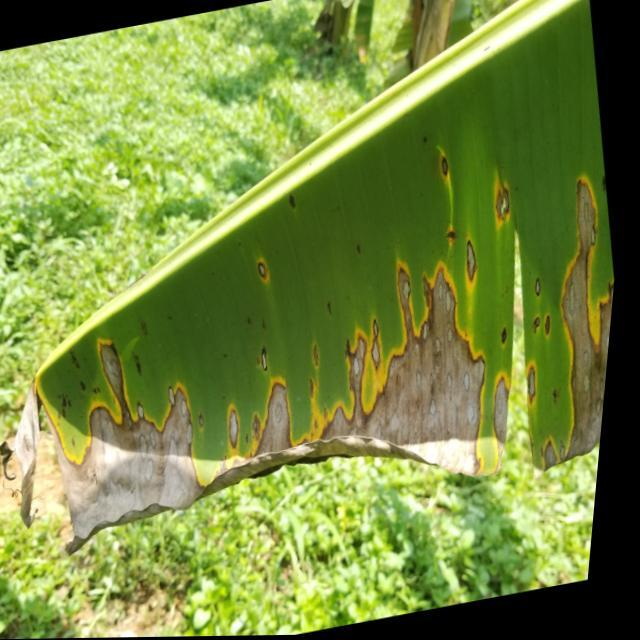Early_rust: (22, 123, 640, 502)
